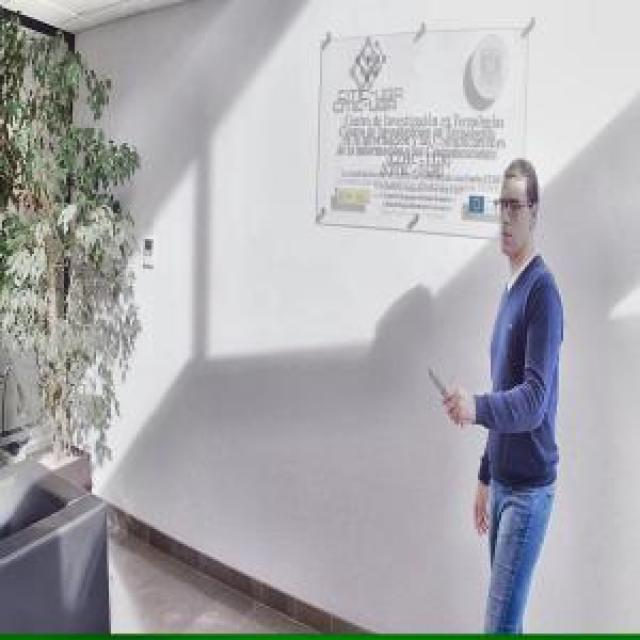knife: (427, 358, 467, 430)
